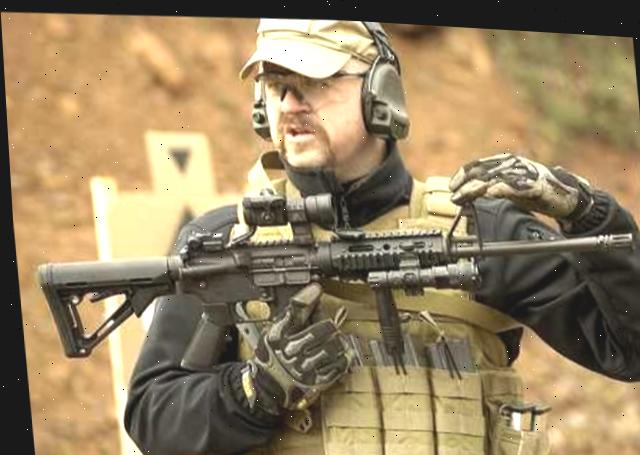rifle: (6, 138, 640, 407)
